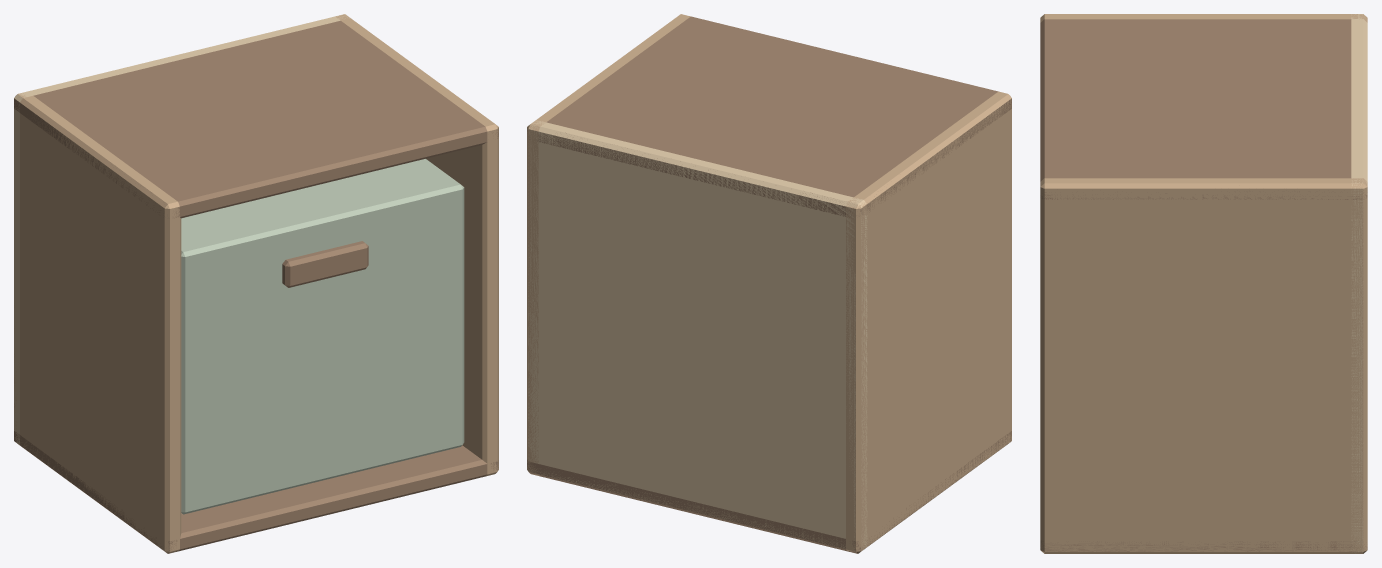
The model's file is Bin_1x1.glb.
3 renders of one model, left to right at view 1: azimuth 30°, elevation 25°; view 2: azimuth 150°, elevation 25°; view 3: azimuth 270°, elevation 25°, orthographic. The views are drawn at different scales.
Parts seen in each view (by area): view 1: SpaceSaver_WallSys_Bin_1x1; view 2: SpaceSaver_WallSys_Bin_1x1; view 3: SpaceSaver_WallSys_Bin_1x1.
Boxes of the visible parts, box(x1,y1,x2,y2) form: SpaceSaver_WallSys_Bin_1x1: box(14, 14, 498, 553); SpaceSaver_WallSys_Bin_1x1: box(527, 14, 1011, 553); SpaceSaver_WallSys_Bin_1x1: box(1040, 14, 1367, 553).
Bounding box in the file's own units: 0.4 × 0.4 × 0.32.
